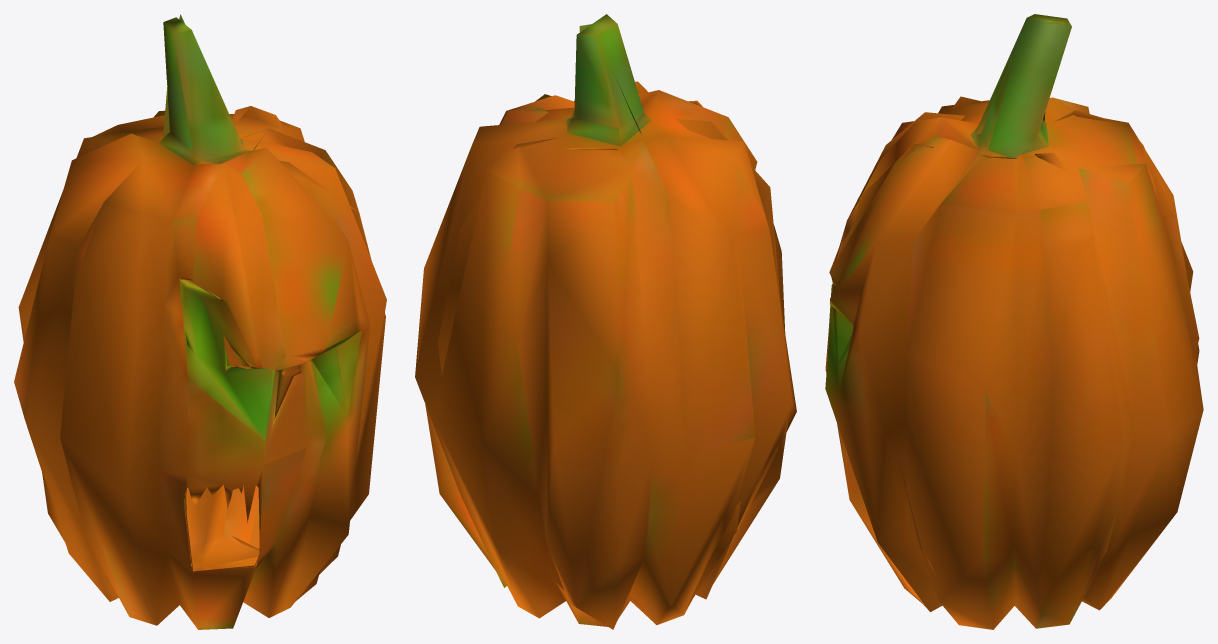
Rendered from pumpkin.glb.
The picture shows the model from 3 angles, left to right: view 1: azimuth 30°, elevation 25°; view 2: azimuth 150°, elevation 25°; view 3: azimuth 270°, elevation 25°; orthographic projection. The views are drawn at different scales.
Bounding box in the file's own units: 0.5922 × 0.9915 × 0.5972.
1 material, 1 textured.
